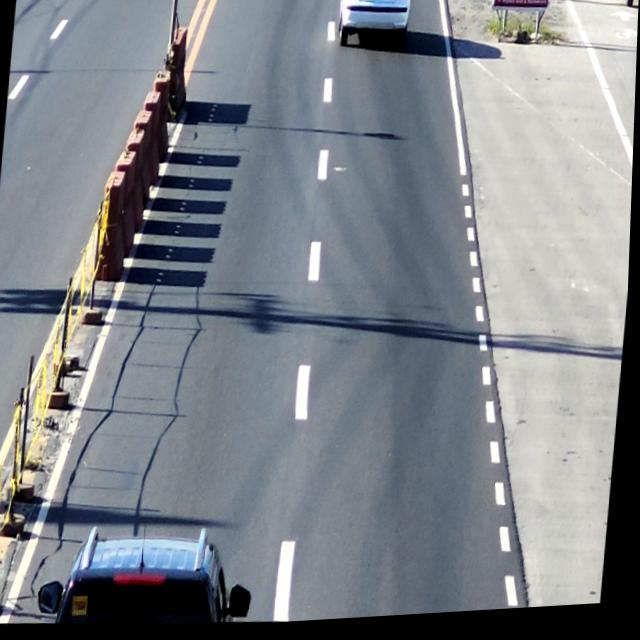Car: (49, 521, 246, 634), (332, 0, 415, 57)
